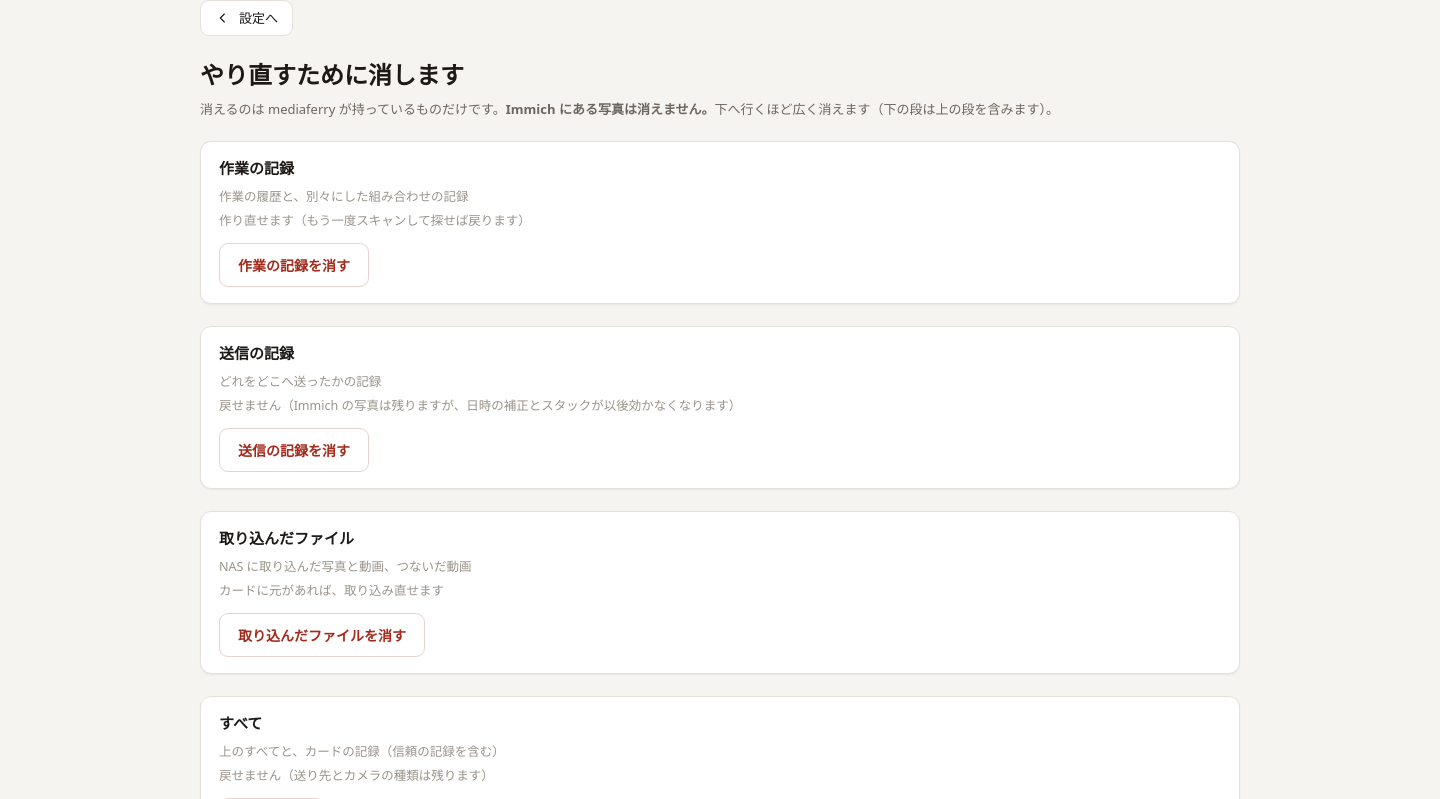
Test: リセット › 取り込んだファイルの確認は、カードから取り込み直せることを書く
Click the button "取り込んだファイルを消す".
click(322, 635)  # box [219,613,425,657]
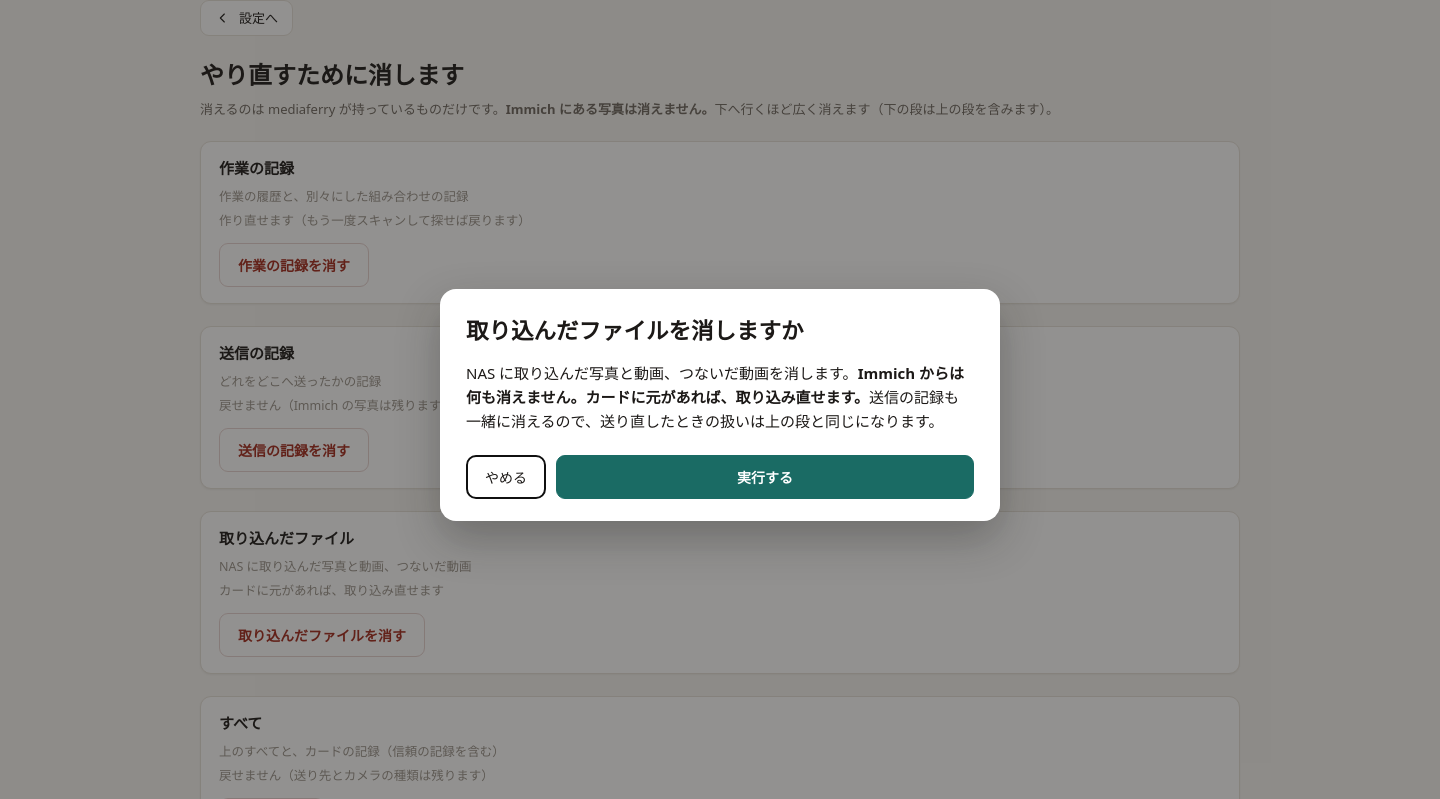
Result: the dialog shows "カードに元があれば" at [586,387,869,407]
